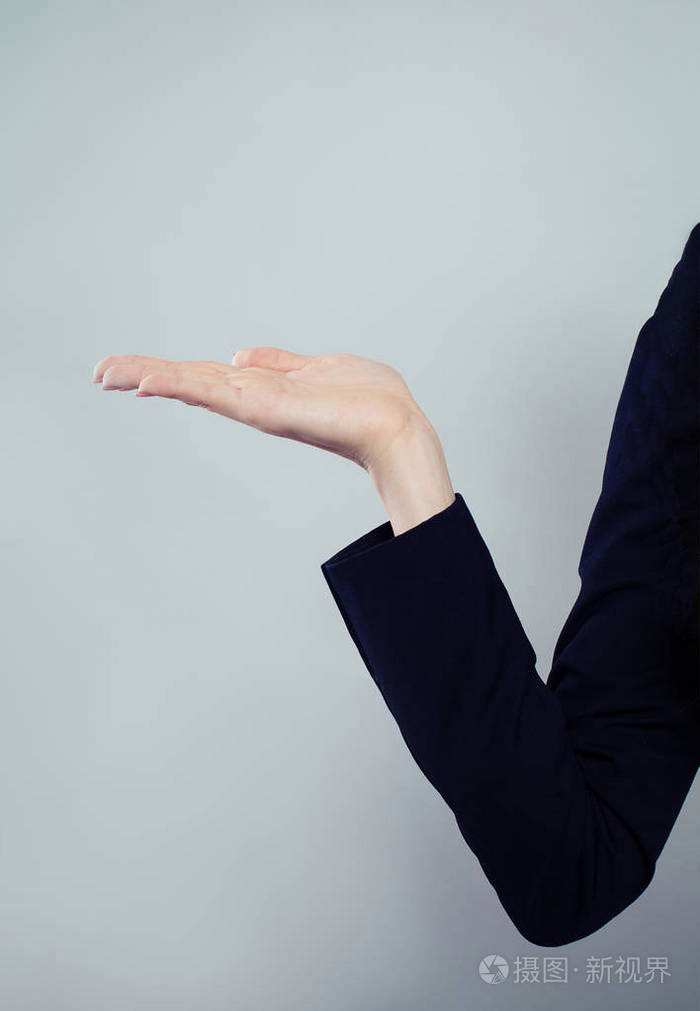no-phone: (87, 334, 449, 471)
